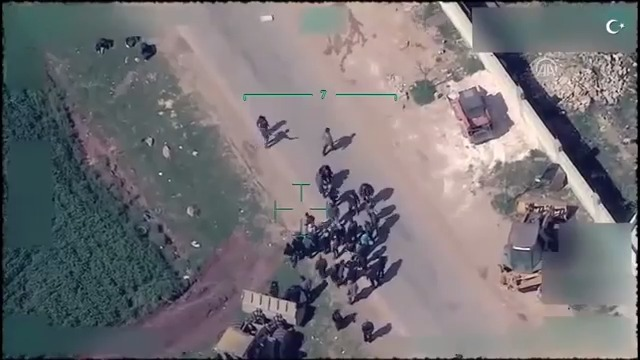insan: (312, 251, 331, 282), (322, 123, 338, 157), (356, 182, 376, 204), (331, 305, 346, 332), (362, 316, 374, 344)
